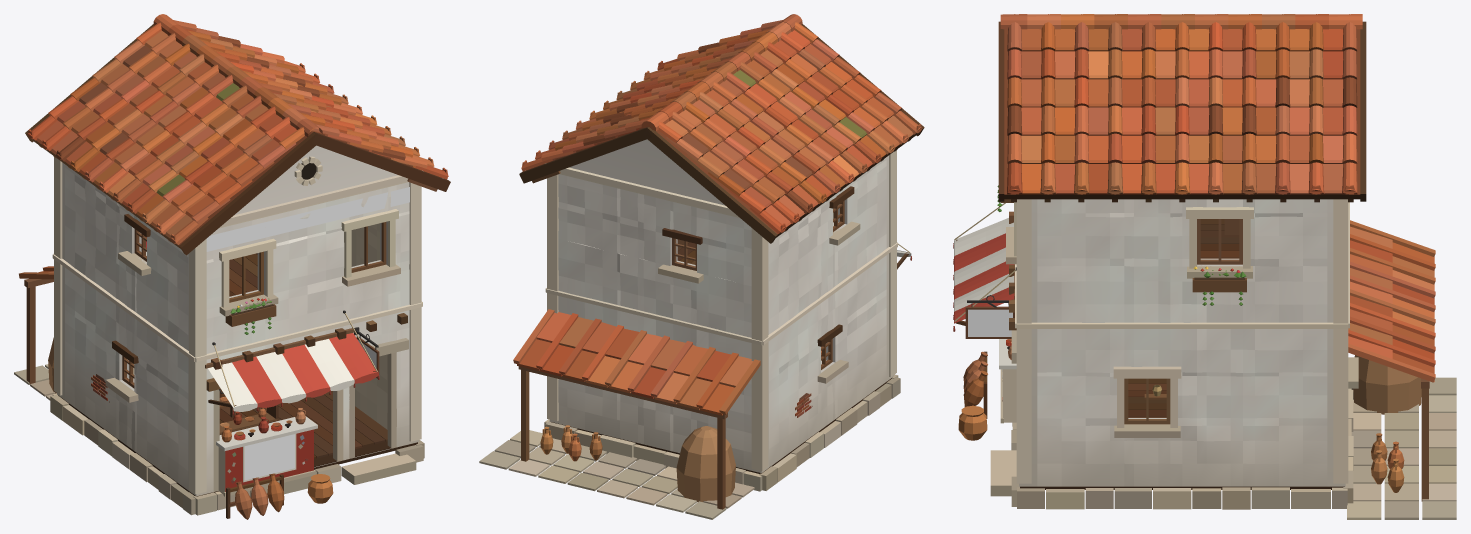
Rendered from artisan_3_2.glb.
3 views of the same model, side by side, from view 1: azimuth 30°, elevation 25°; view 2: azimuth 150°, elevation 25°; view 3: azimuth 270°, elevation 25° (orthographic). The views are drawn at different scales.
Visible parts, largest first — view 1: House, Walls, Rooms, Frieze; view 2: House, Walls; view 3: House, Walls, Rooms.
Part boxes in pixels (box(x1,y1,x2,y2)): House: box(14, 14, 450, 519); Walls: box(57, 145, 418, 496); Rooms: box(133, 223, 387, 459); Frieze: box(206, 187, 409, 251); House: box(479, 14, 924, 519); Walls: box(549, 139, 893, 472); House: box(953, 14, 1456, 519); Walls: box(1019, 199, 1345, 486); Rooms: box(1128, 219, 1239, 417).
Bounding box in the file's own units: 4.45 × 5.63 × 6.01.
Materials: 8 (8 with a texture image).
